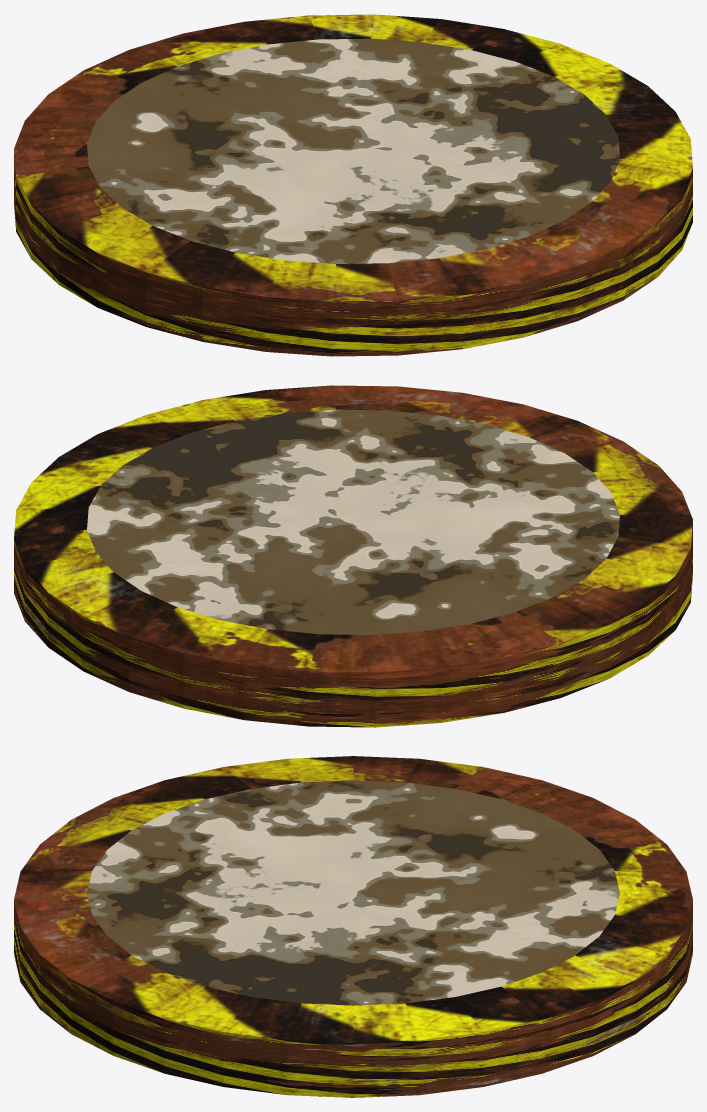
File: ItemOutlet.fbx
3 views of the same model, one above another, from view 1: azimuth 30°, elevation 25°; view 2: azimuth 150°, elevation 25°; view 3: azimuth 270°, elevation 25° (orthographic).
Visible parts, largest first — view 1: 실린더; view 2: 실린더; view 3: 실린더.
Boxes of the visible parts, left/top/right/bottom form: 실린더: left=14, top=14, right=692, bottom=356; 실린더: left=14, top=385, right=692, bottom=727; 실린더: left=14, top=756, right=692, bottom=1097.
Size of the model in its own units: 200 by 20 by 200.
